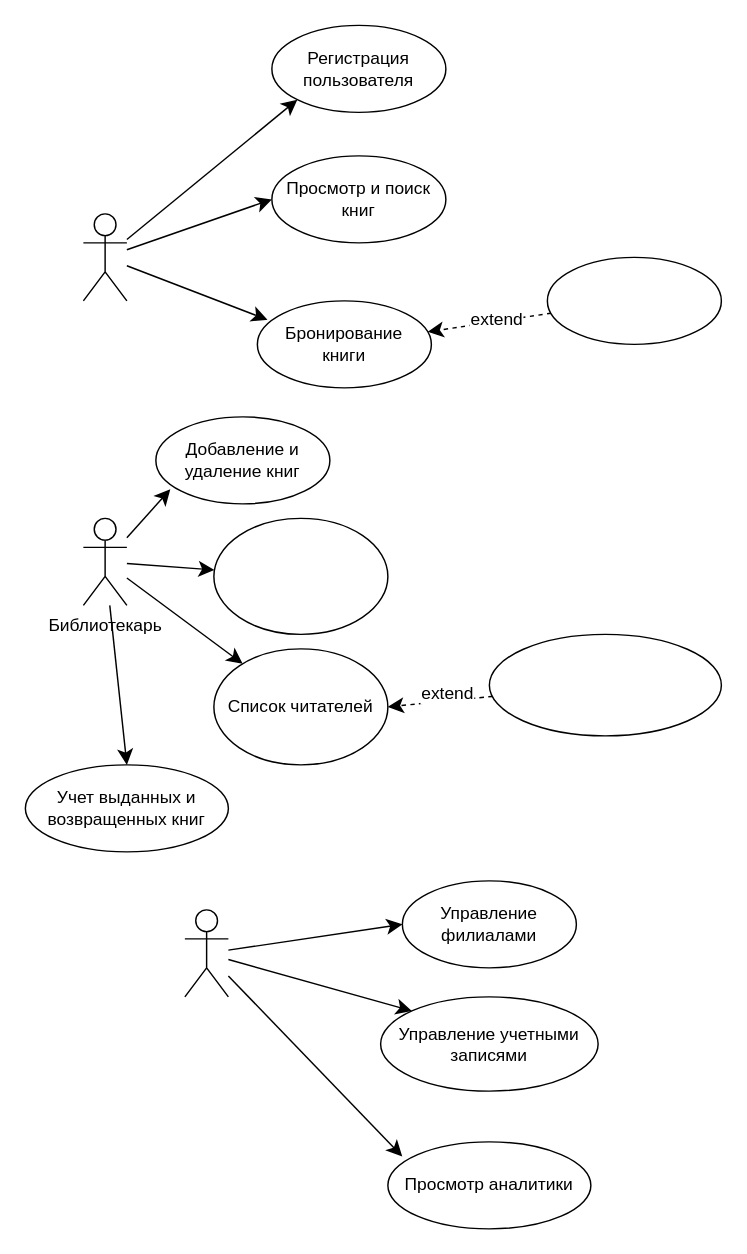
This 747x1254 diagram has some shape labels left out. Each missing label, with the centre of its shape:
"Админ" goes at (x=205, y=952).
"Отмена бронирования" goes at (x=633, y=300).
"Просмотр активных бронирований" goes at (x=604, y=684).
"Список книг" goes at (x=300, y=575).
"Читатель" goes at (x=104, y=256).
